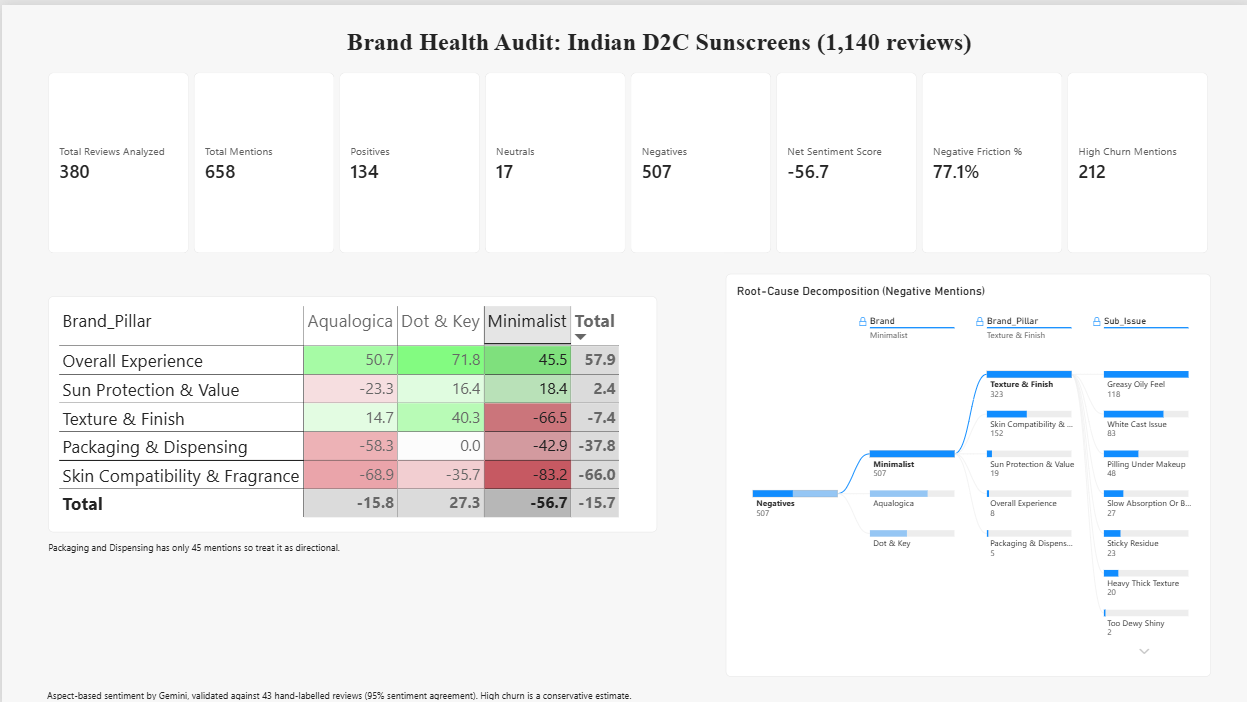

The dashboard page shown, as its layout file describes it:
{"tool":"powerbi","page":{"name":"Page 1","canvas":[1920,1080],"ordinal":0},"visuals":[{"type":"pivotTable","fields":{"Columns":["enriched_beauty_sentiment.Brand"],"Rows":["enriched_beauty_sentiment.Brand_Pillar"],"Values":["enriched_beauty_sentiment.Net Sentiment Score"]},"box":[71.2,448.1,936.5,363.5],"z":0},{"type":"decompositionTreeVisual","title":"Root-Cause Decomposition (Negative Mentions)","fields":{"Analyze":["enriched_beauty_sentiment.Negatives"],"ExplainBy":["enriched_beauty_sentiment.Brand","enriched_beauty_sentiment.Brand_Pillar","enriched_beauty_sentiment.Sub_Issue"]},"box":[1114,414,746,620],"z":1000},{"type":"textbox","box":[530.8,34.6,1117.3,50],"z":2000},{"type":"textbox","box":[70,1052.5,1020,27.5],"z":3000},{"type":"cardVisual","fields":{"Data":["enriched_beauty_sentiment.Total Reviews Analyzed","enriched_beauty_sentiment.Total Mentions","enriched_beauty_sentiment.Positives","enriched_beauty_sentiment.Neutrals","enriched_beauty_sentiment.Negatives","enriched_beauty_sentiment.Net Sentiment Score","enriched_beauty_sentiment.Negative Friction %","enriched_beauty_sentiment.High Churn Mentions"]},"box":[71.2,103.8,1788.5,278.8],"z":4000},{"type":"textbox","box":[71.2,825,457.7,26.9],"z":5000}]}

Visuals, with their boxes in screenshot pixels (x1, y1, x2, y2), scaled from the page's 1920x1080 canvas onto the 1247x702 screenshot:
pivotTable - enriched_beauty_sentiment.Brand x enriched_beauty_sentiment.Brand_Pillar: left=46, top=291, right=654, bottom=528
"Root-Cause Decomposition (Negative Mentions)" decompositionTreeVisual: left=724, top=269, right=1208, bottom=672
textbox: left=345, top=22, right=1070, bottom=55
textbox: left=45, top=684, right=708, bottom=701
cardVisual - enriched_beauty_sentiment.Total Reviews Analyzed x enriched_beauty_sentiment.Total Mentions: left=46, top=67, right=1208, bottom=249
textbox: left=46, top=536, right=344, bottom=554
